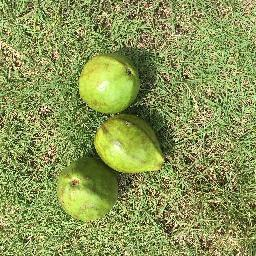Good_guava: (92, 113, 169, 176), (52, 161, 118, 225), (78, 46, 138, 112)
